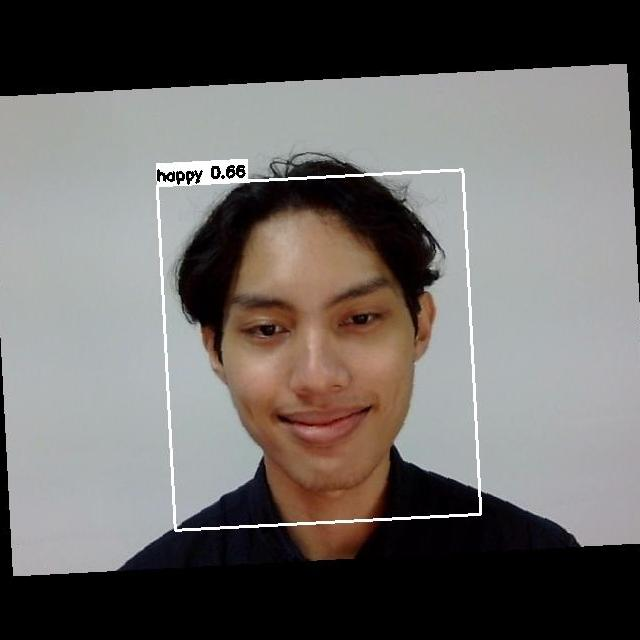Happy: (212, 266, 434, 463)
